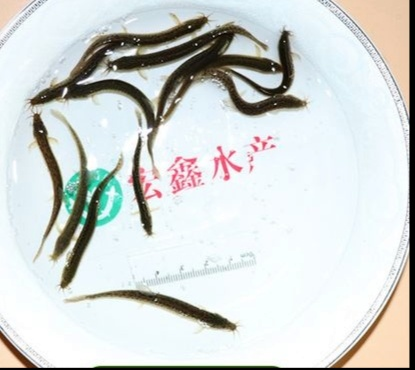fry: (122, 278, 246, 348), (57, 179, 122, 288), (47, 144, 89, 263), (21, 111, 67, 218), (67, 75, 155, 123), (123, 150, 163, 244), (228, 80, 306, 123), (115, 11, 212, 43), (20, 57, 73, 111), (182, 32, 236, 76), (269, 20, 300, 87), (221, 48, 283, 78), (109, 49, 181, 72)
